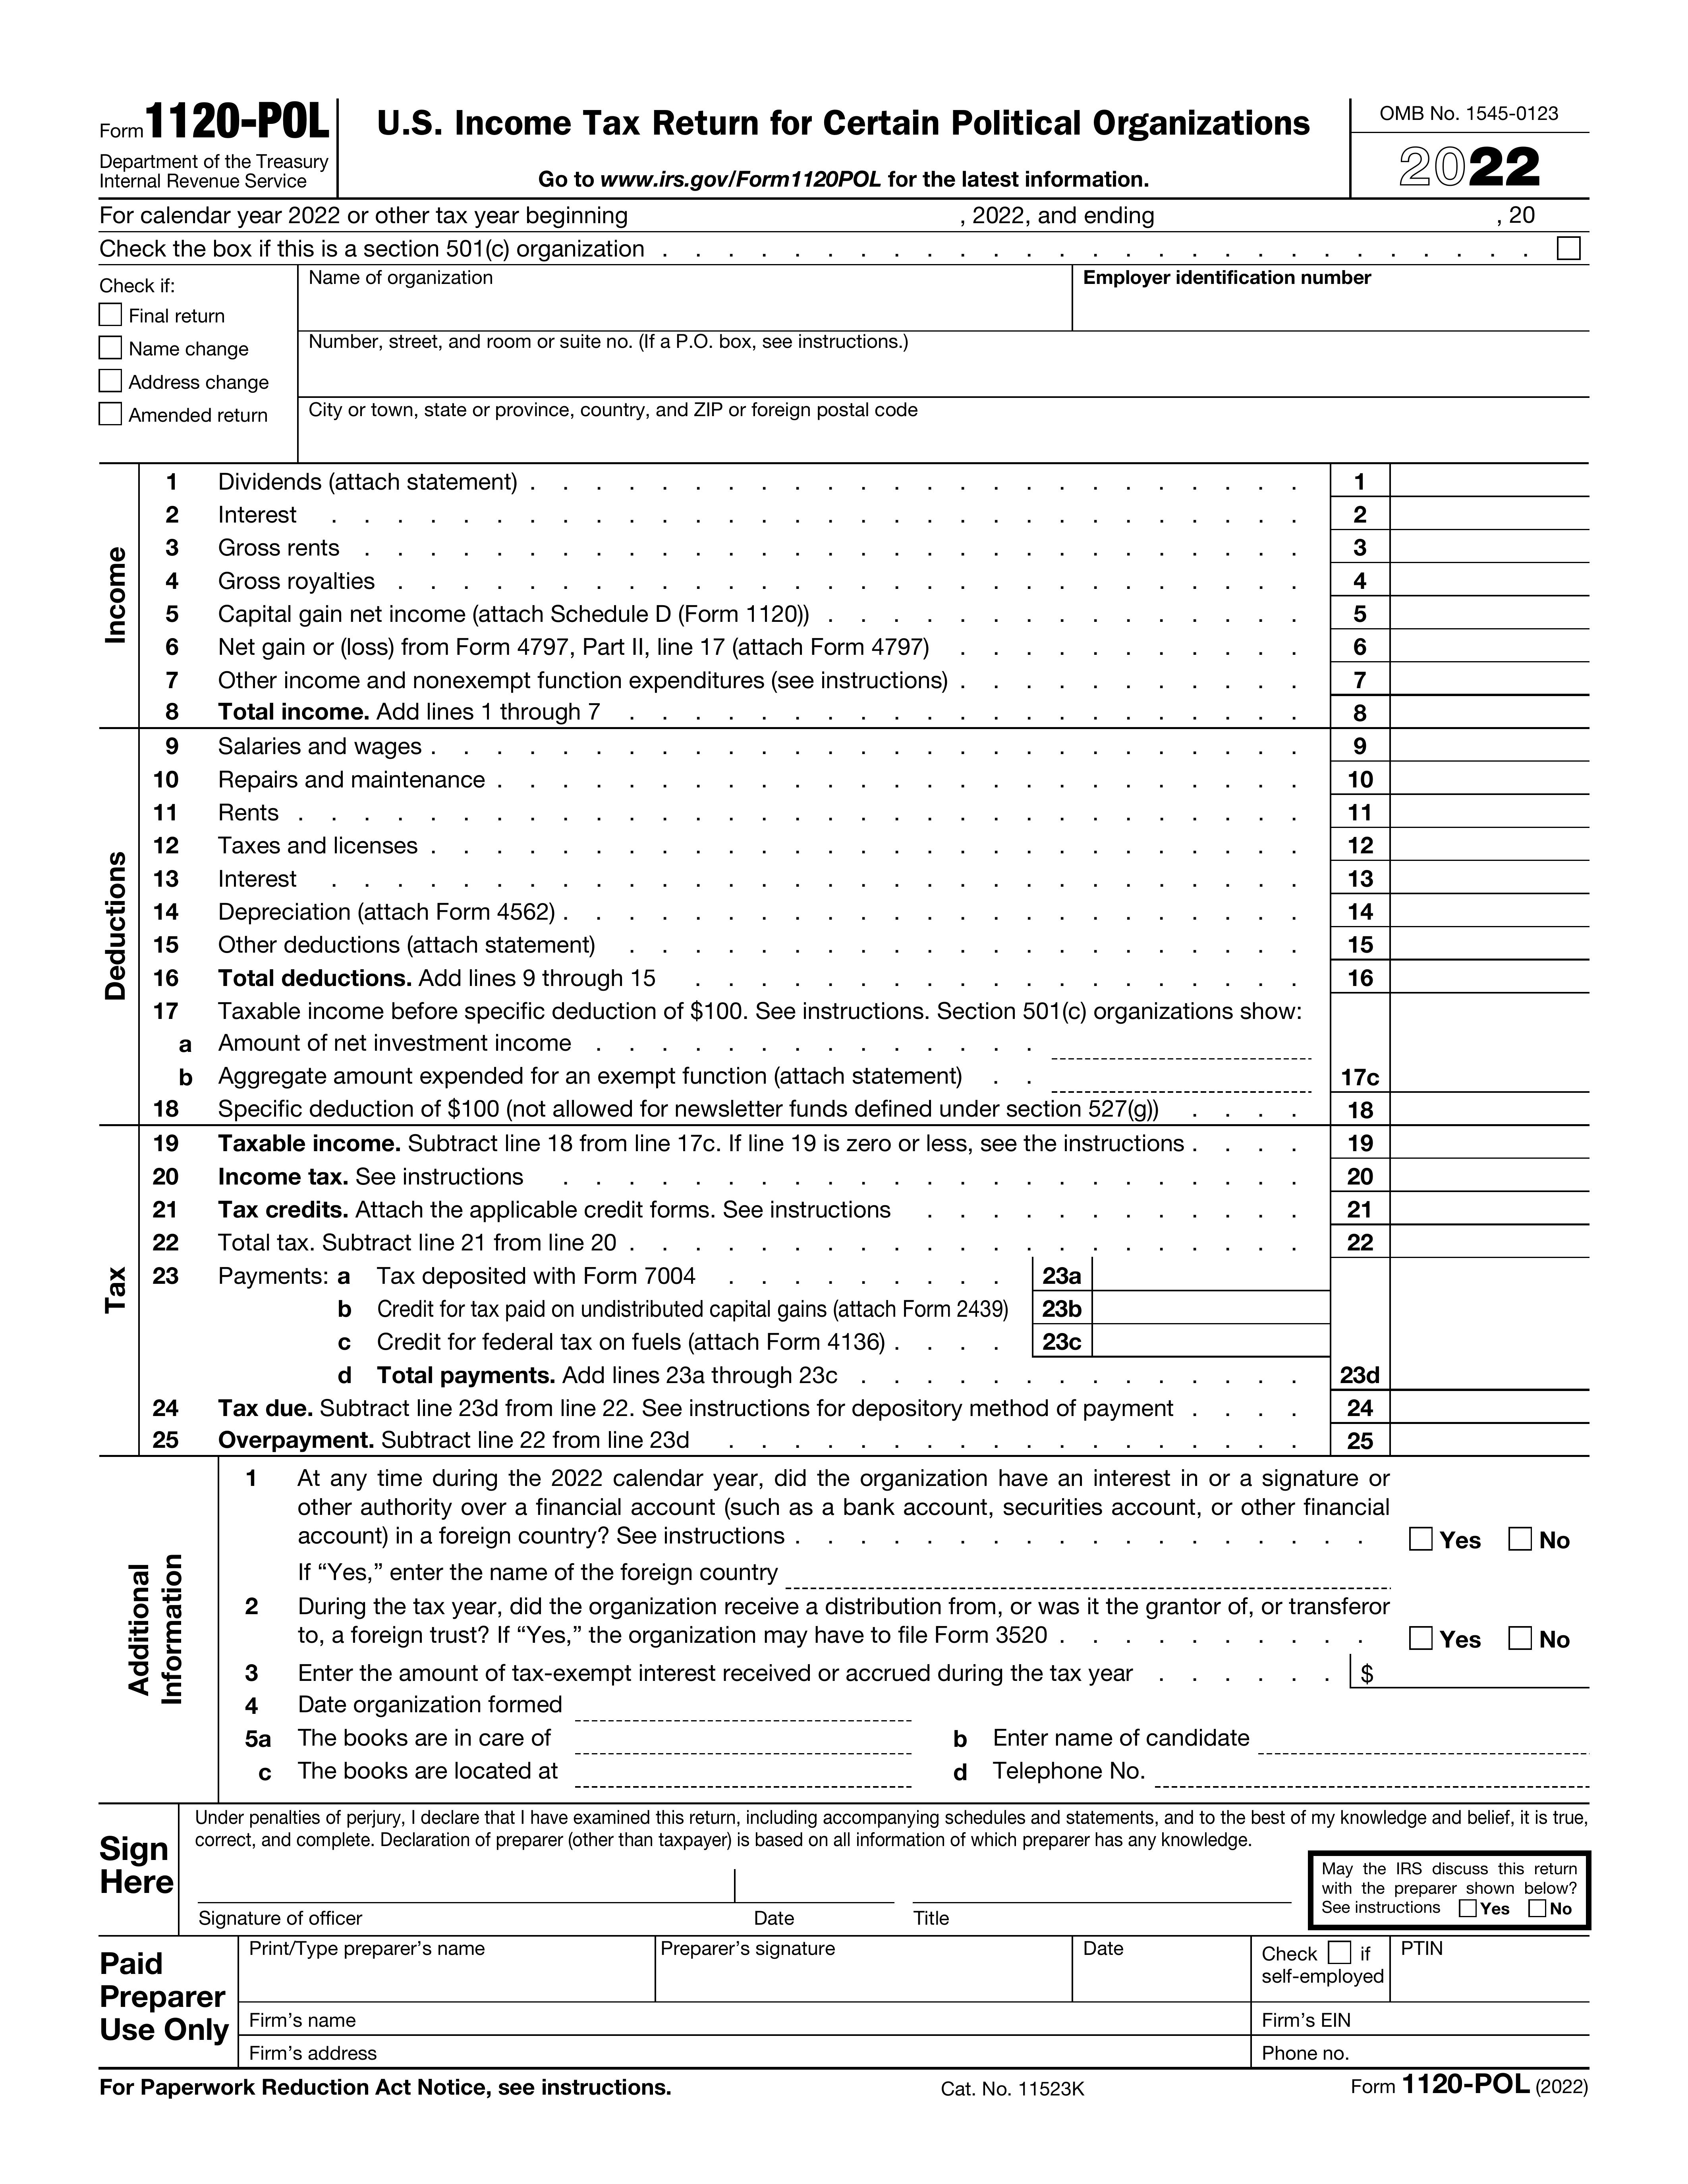form: (78, 80, 1606, 452), (76, 1803, 1619, 2069)
table: (67, 461, 1606, 1462)
